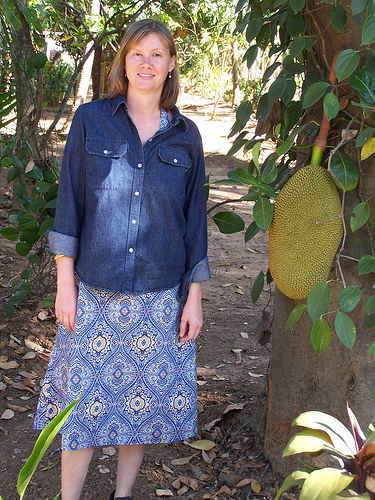jackfruit: (266, 162, 346, 303)
